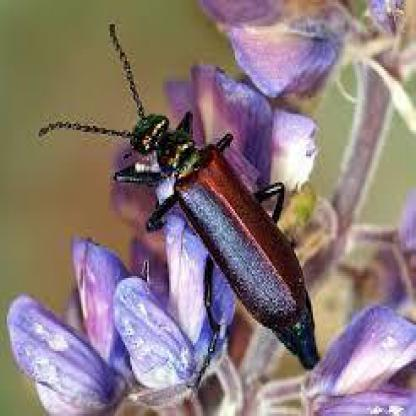blister beetle: (39, 25, 325, 376)
